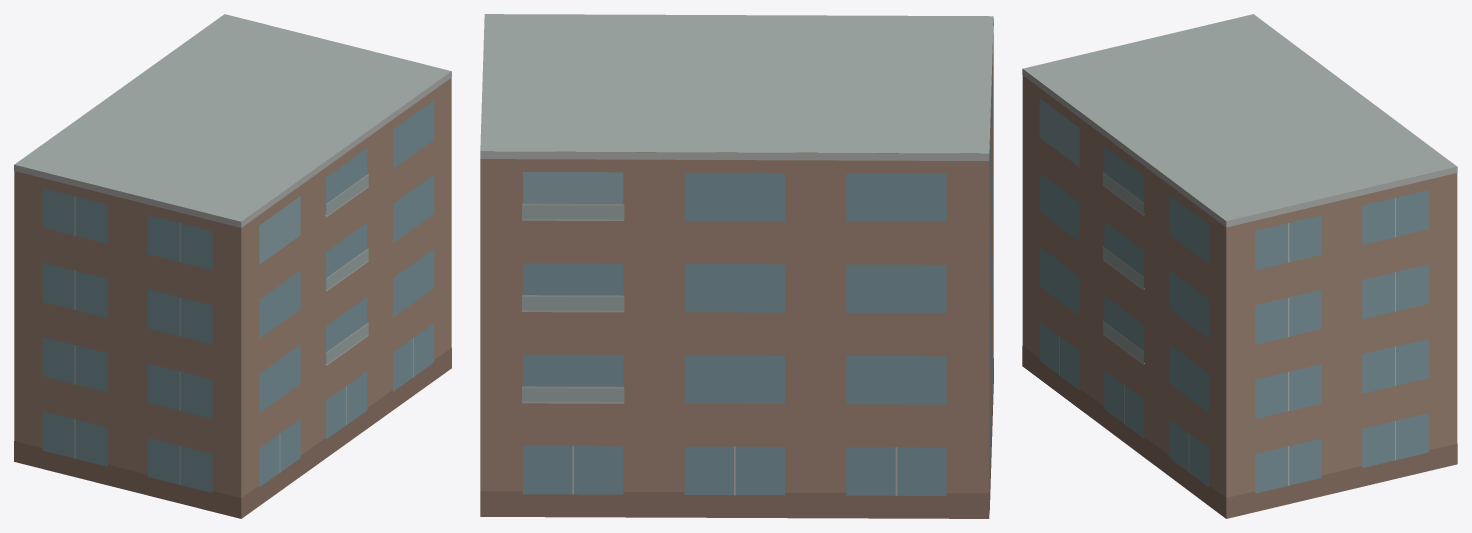
Rendered from survey-upis-32696151.glb.
3 renders of one model, left to right at view 1: azimuth 30°, elevation 25°; view 2: azimuth 150°, elevation 25°; view 3: azimuth 270°, elevation 25°, orthographic. The views are drawn at different scales.
Parts seen in each view (by area): view 1: survey-upis-32696151.tmp; view 2: survey-upis-32696151.tmp; view 3: survey-upis-32696151.tmp.
Boxes of the visible parts, left/top/right/bottom form: survey-upis-32696151.tmp: left=14, top=14, right=451, bottom=518; survey-upis-32696151.tmp: left=480, top=14, right=993, bottom=518; survey-upis-32696151.tmp: left=1022, top=14, right=1457, bottom=518.
Bounding box in the file's own units: 17.48 × 11.7 × 15.5.
